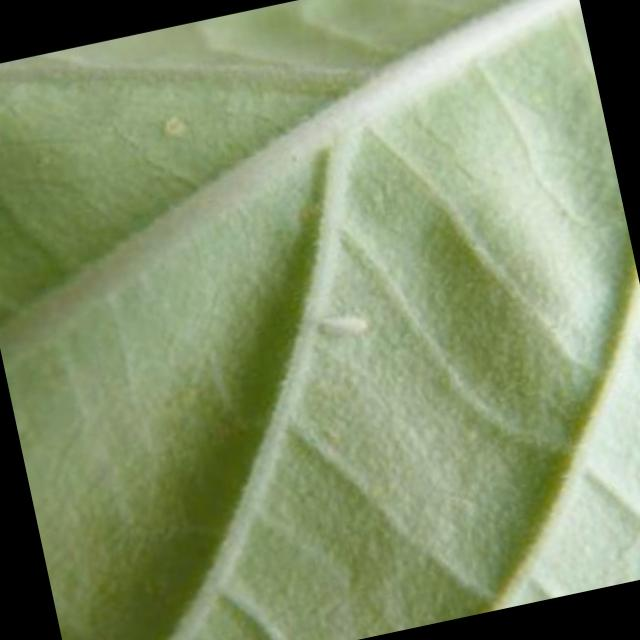Silverleaf whitefly: (298, 279, 395, 370)
